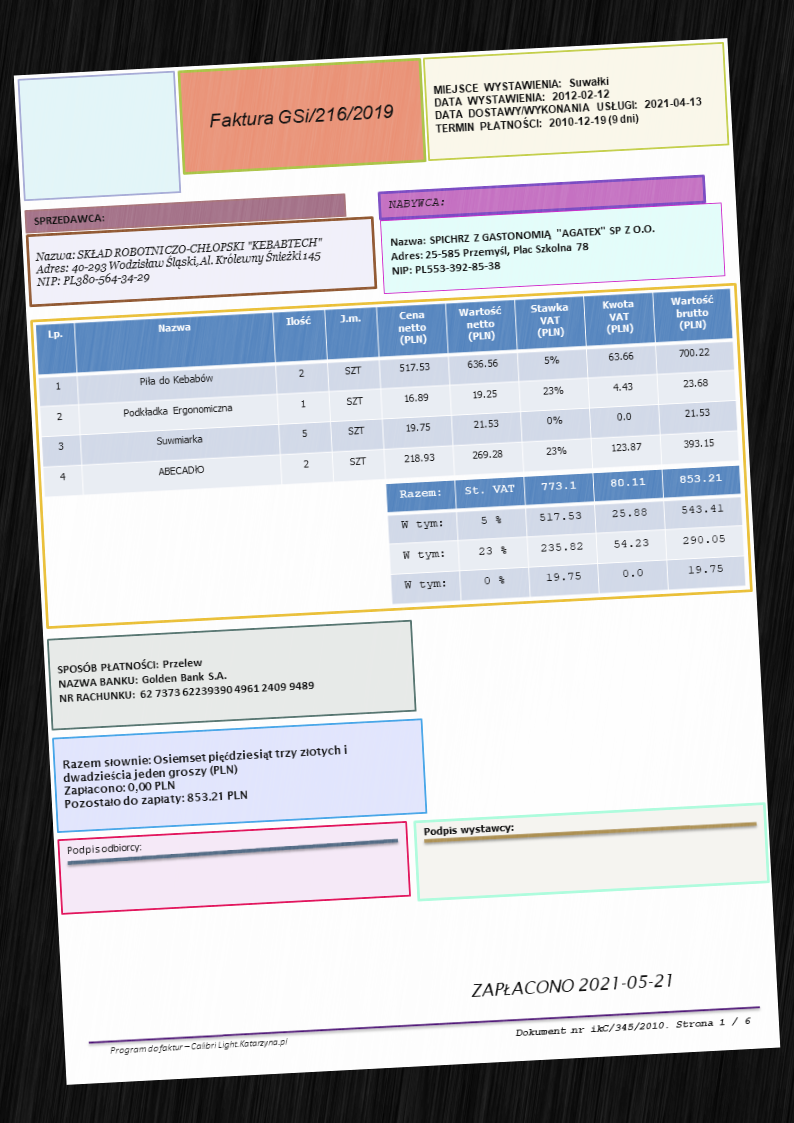Table: (34, 287, 740, 498), (385, 465, 746, 606)
TextBox: (60, 742, 353, 812), (431, 67, 704, 136), (33, 235, 328, 291), (388, 222, 659, 277), (55, 648, 315, 705), (468, 969, 675, 1002), (512, 1014, 753, 1040), (206, 101, 395, 130), (107, 1035, 291, 1058), (421, 820, 516, 840), (64, 839, 143, 859), (31, 210, 105, 228), (387, 195, 445, 211)
